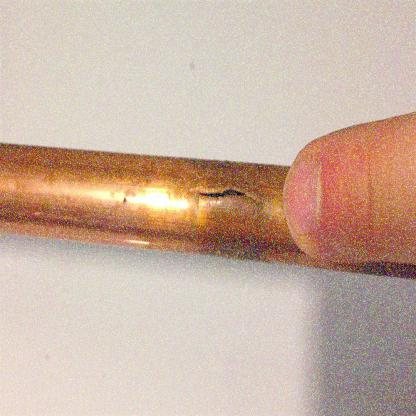burst: (194, 181, 263, 216)
